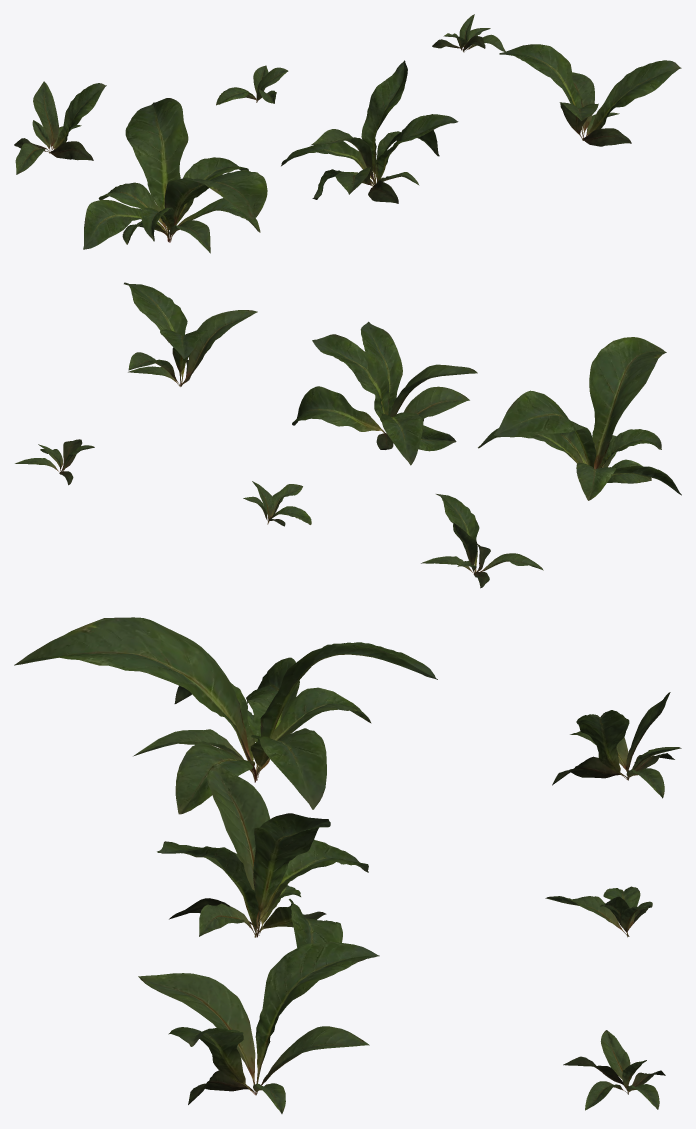
The model's file is anthurium_botany_01.glb.
3 renders of one model, top to bottom at view 1: azimuth 30°, elevation 25°; view 2: azimuth 150°, elevation 25°; view 3: azimuth 270°, elevation 25°, orthographic. The views are drawn at different scales.
Visible parts, largest first — view 1: anthurium_botany_01_a, anthurium_botany_01_b, anthurium_botany_01_c, anthurium_botany_04_d, anthurium_botany_05_e, anthurium_botany_06_f; view 2: anthurium_botany_01_a, anthurium_botany_01_b, anthurium_botany_01_c, anthurium_botany_04_d, anthurium_botany_05_e, anthurium_botany_06_f; view 3: anthurium_botany_01_a, anthurium_botany_01_b, anthurium_botany_01_c, anthurium_botany_04_d, anthurium_botany_06_f, anthurium_botany_05_e.
Part boxes in pixels (x1,y1,x2,y2): anthurium_botany_01_a: [83, 98, 267, 253]; anthurium_botany_01_b: [281, 60, 458, 203]; anthurium_botany_01_c: [499, 44, 681, 146]; anthurium_botany_04_d: [14, 81, 106, 174]; anthurium_botany_05_e: [216, 65, 288, 105]; anthurium_botany_06_f: [432, 14, 505, 52]; anthurium_botany_01_a: [478, 337, 681, 500]; anthurium_botany_01_b: [292, 321, 477, 465]; anthurium_botany_01_c: [124, 282, 257, 386]; anthurium_botany_04_d: [421, 494, 543, 588]; anthurium_botany_05_e: [243, 481, 311, 526]; anthurium_botany_06_f: [15, 439, 94, 485]; anthurium_botany_01_a: [14, 617, 437, 814]; anthurium_botany_01_b: [157, 763, 368, 947]; anthurium_botany_01_c: [138, 942, 379, 1113]; anthurium_botany_04_d: [552, 692, 681, 798]; anthurium_botany_06_f: [563, 1030, 665, 1110]; anthurium_botany_05_e: [545, 886, 652, 937].
Size of the model in its own units: 2.8 by 0.4996 by 1.8.
Materials: 1 (1 with a texture image).
